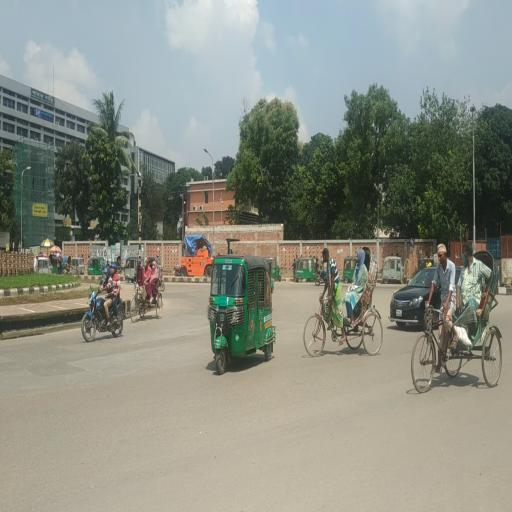car: (387, 283, 431, 329)
motorbike: (81, 285, 125, 343), (174, 265, 183, 277)
rickshaw: (412, 241, 505, 398), (304, 248, 383, 362), (132, 258, 164, 322), (115, 256, 124, 275), (64, 255, 71, 277)
three wheelers (CNG): (208, 253, 278, 377), (382, 256, 407, 284), (295, 255, 316, 283), (88, 257, 106, 278), (343, 256, 356, 285), (124, 256, 137, 284), (71, 256, 86, 277), (39, 258, 54, 277)
